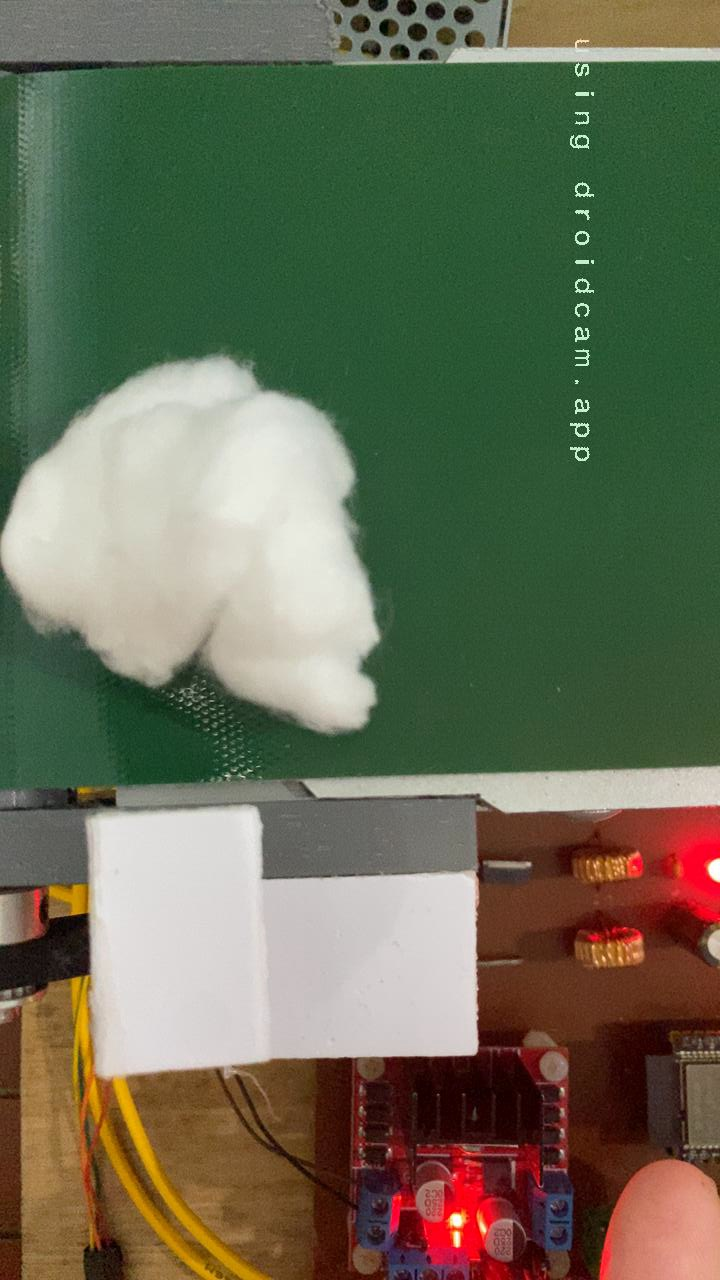cotton: (0, 349, 388, 740)
